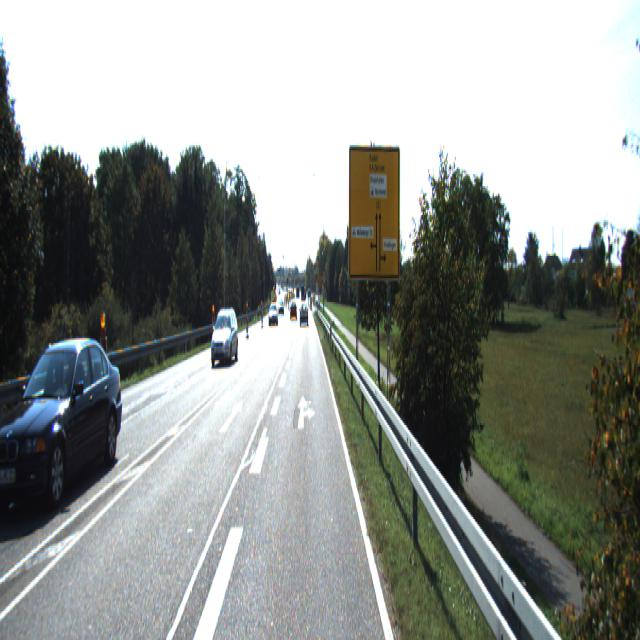Car: (0, 325, 125, 518), (210, 311, 238, 368), (300, 303, 309, 325)
